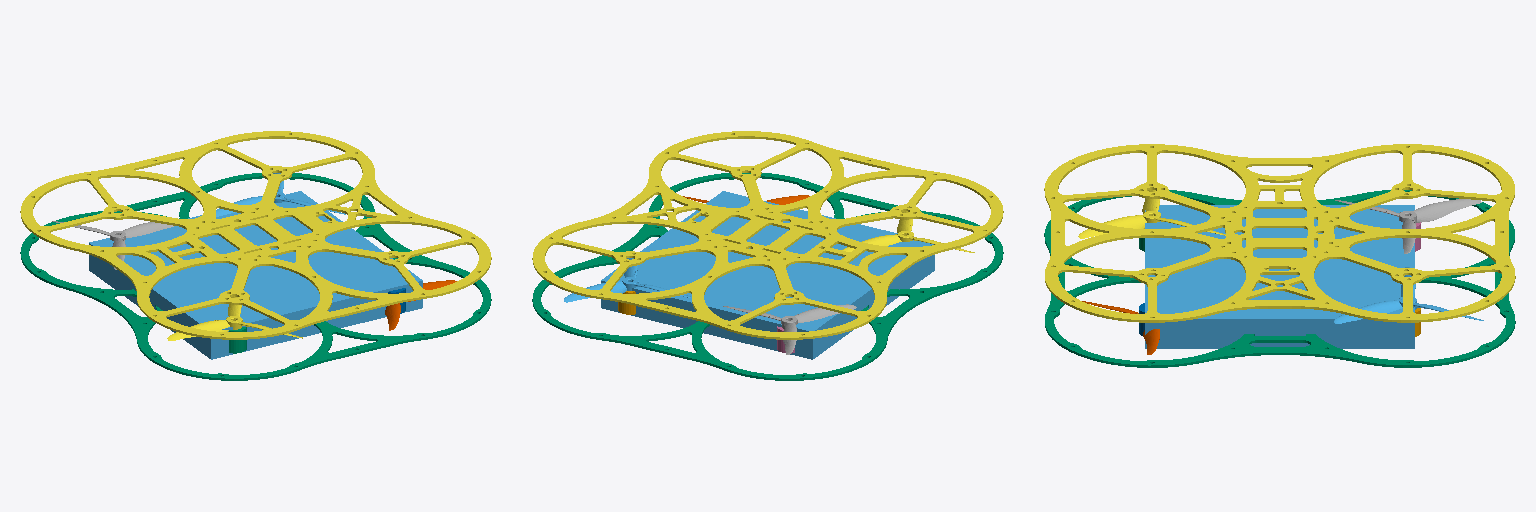
URDF robot description (dexi):
<?xml version="1.0"?>
<robot name="dexi">

    <link name="base_footprint" />

    <link name="base_link">
        <visual>
            <geometry>
                <box size="0.2 0.2 0.025" />
            </geometry>
            <origin xyz="0 0 0" rpy="0 0 0" />
        </visual>
    </link>

    <link name="bottom_plate_link">
        <visual>
            <geometry>
                <mesh filename="package://dexi_robot_description/meshes/dexi_bottom_plate.stl" scale="0.001 0.001 0.001" />
            </geometry>
            <origin xyz="0 0 0" rpy="0 0 -1.57" />
        </visual>
    </link>

    <link name="top_plate_link">
        <visual>
            <geometry>
                <mesh filename="package://dexi_robot_description/meshes/dexi_top_plate.stl" scale="0.001 0.001 0.001" />
            </geometry>
            <origin xyz="0 0 0" rpy="0 0 -1.57" />
        </visual>
    </link>

    <link name="rotor_1_link">
        <visual>
            <geometry>
                <cylinder length="0.02" radius="0.01" />
            </geometry>
            <origin xyz="0 0 0" rpy="0 0 0" />
        </visual>
    </link>

    <link name="rotor_1_propeller_link">
        <visual>
            <geometry>
                <!-- Propeller 5.5" long, 1" width and 1/4" high-->
                <mesh filename="package://dexi_robot_description/meshes/gemfan_ccw.stl" scale="0.001 0.001 0.001" />
            </geometry>
            <origin xyz="0 0 0" rpy="0 0 0" />
        </visual>
    </link>

    <link name="rotor_2_link">
        <visual>
            <geometry>
                <cylinder length="0.02" radius="0.01" />
            </geometry>
            <origin xyz="0 0 0" rpy="0 0 0" />
        </visual>
    </link>

     <link name="rotor_2_propeller_link">
        <visual>
            <geometry>
                <!-- Propeller 5.5" long, 1" width and 1/4" high-->
                <mesh filename="package://dexi_robot_description/meshes/gemfan_ccw.stl" scale="0.001 0.001 0.001" />
            </geometry>
            <origin xyz="0 0 0" rpy="0 0 0" />
        </visual>
    </link>

    <link name="rotor_3_link">
        <visual>
            <geometry>
                <cylinder length="0.02" radius="0.01" />
            </geometry>
            <origin xyz="0 0 0" rpy="0 0 0" />
        </visual>
    </link>

    <link name="rotor_3_propeller_link">
        <visual>
            <geometry>
                <!-- Propeller 5.5" long, 1" width and 1/4" high-->
                <mesh filename="package://dexi_robot_description/meshes/gemfan_cw.stl" scale="0.001 0.001 0.001" />
            </geometry>
            <!-- 45 degree rotation -->
            <origin xyz="0 0 0" rpy="0 0 0" />
        </visual>
    </link>

    <link name="rotor_4_link">
        <visual>
            <geometry>
                <cylinder length="0.02" radius="0.01" />
            </geometry>
            <origin xyz="0 0 0" rpy="0 0 0" />
        </visual>
    </link>

    <link name="rotor_4_propeller_link">
        <visual>
            <geometry>
                <!-- Propeller 5.5" long, 1" width and 1/4" high-->
                <mesh filename="package://dexi_robot_description/meshes/gemfan_cw.stl" scale="0.001 0.001 0.001" />
            </geometry>
            <!-- 45 degree rotation -->
            <origin xyz="0 0 0" rpy="0 0 0" />
        </visual>
    </link>

    <joint name="base_joint" type="fixed">
        <parent link="base_footprint" />
        <child link="base_link" />
        <origin xyz="0 0 0" rpy="0 0 0" />
    </joint>

    <joint name="bottom_plate_joint" type="fixed">
        <parent link="base_footprint" />
        <child link="bottom_plate_link" />
        <origin xyz="0 0 0" rpy="0 0 0" />
    </joint>

    <joint name="top_plate_joint" type="fixed">
        <parent link="base_footprint" />
        <child link="top_plate_link" />
        <origin xyz="0 0 0" rpy="0 0 0" />
    </joint>

    <!-- Front Right Rotor -->
    <joint name="base_rotor_1_joint" type="continuous">
        <parent link="base_link" />
        <child link="rotor_1_link" />
        <origin xyz="0.075 -0.095 0" rpy="0 0 0" />
        <axis xyz="0 0 1" />
    </joint>

    <!-- Front Right Propeller -->
    <joint name="rotor_1_propeller_joint" type="fixed">
        <parent link="rotor_1_link" />
        <child link="rotor_1_propeller_link" />
        <origin xyz="0 0 0" rpy="0 0 0" />
    </joint>

    <!-- Rear Left -->
    <joint name="base_rotor_2_joint" type="continuous">
        <parent link="base_link" />
        <child link="rotor_2_link" />
        <origin xyz="-0.075 0.095 0" rpy="0 0 0" />
        <axis xyz="0 0 1" />
    </joint>

    <!-- Rear Left Propeller -->
    <joint name="rotor_2_propeller_joint" type="fixed">
        <parent link="rotor_2_link" />
        <child link="rotor_2_propeller_link" />
        <origin xyz="0 0 0.013" rpy="0 0 0.01" />
    </joint>

    <!-- Front Left -->
    <joint name="base_rotor_3_joint" type="continuous">
        <parent link="base_link" />
        <child link="rotor_3_link" />
        <origin xyz="0.075 0.095 0" rpy="0 0 0" />
        <axis xyz="0 0 1" />
    </joint>

    <!-- Front Left Propeller -->
    <joint name="rotor_3_propeller_joint" type="fixed">
        <parent link="rotor_3_link" />
        <child link="rotor_3_propeller_link" />
        <origin xyz="0 0 0.013" rpy="0 0 0.01" />
    </joint>

    <!-- Front Right -->
    <joint name="base_rotor_4_joint" type="continuous">
        <parent link="base_link" />
        <child link="rotor_4_link" />
        <origin xyz="-0.075 -0.095 0" rpy="0 0 0" />
        <axis xyz="0 0 1" />
    </joint>

    <!-- Rear Right Propeller -->
    <joint name="rotor_4_propeller_joint" type="fixed">
        <parent link="rotor_4_link" />
        <child link="rotor_4_propeller_link" />
        <origin xyz="0 0 0.013" rpy="0 0 0.01" />
    </joint>

</robot>

--- Render facts (derived) ---
Views: 3 orthographic renders of the robot side by side, from view 1: azimuth 30°, elevation 25°; view 2: azimuth 150°, elevation 25°; view 3: azimuth 270°, elevation 25°.
Robot: dexi — 12 links, 11 joints (4 continuous, 7 fixed); root link base_footprint; default pose: every joint at zero.
Links seen in each view (by area): view 1: top_plate_link, base_link, bottom_plate_link, rotor_4_propeller_link, rotor_2_propeller_link, rotor_3_propeller_link; view 2: top_plate_link, base_link, bottom_plate_link, rotor_2_propeller_link, rotor_4_propeller_link, rotor_3_propeller_link; view 3: top_plate_link, base_link, bottom_plate_link, rotor_2_propeller_link, rotor_4_propeller_link, rotor_3_propeller_link.
Link boxes in pixels (x1,y1,x2,y2): top_plate_link: (20,131,491,339); base_link: (89,191,422,359); bottom_plate_link: (20,173,491,380); rotor_4_propeller_link: (167,296,302,340); rotor_2_propeller_link: (52,221,173,269); rotor_3_propeller_link: (216,173,345,216); top_plate_link: (532,131,1003,339); base_link: (601,191,934,359); bottom_plate_link: (532,173,1003,380); rotor_2_propeller_link: (723,304,856,354); rotor_4_propeller_link: (842,211,974,252); rotor_3_propeller_link: (564,258,691,302); top_plate_link: (1044,144,1515,322); base_link: (1145,205,1414,348); bottom_plate_link: (1044,190,1515,367); rotor_2_propeller_link: (1335,199,1481,253); rotor_4_propeller_link: (1078,190,1225,238); rotor_3_propeller_link: (1334,267,1483,323).
Size in the robot's own frame: 0.3101 by 0.3501 by 0.0495 metres.
6 mesh visuals loaded from 4 distinct referenced files (4 binary STL).